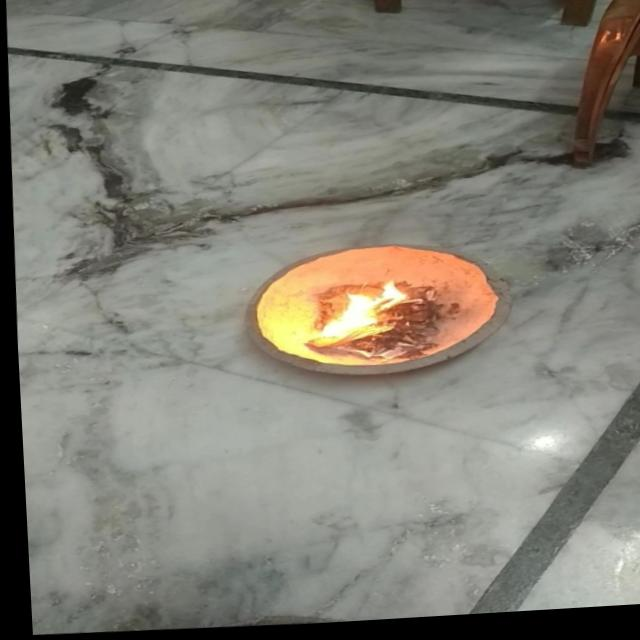fire: (311, 278, 416, 357)
